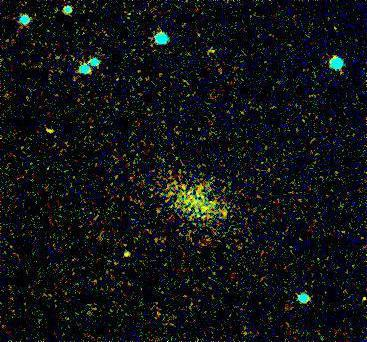star: (107, 239, 137, 269)
